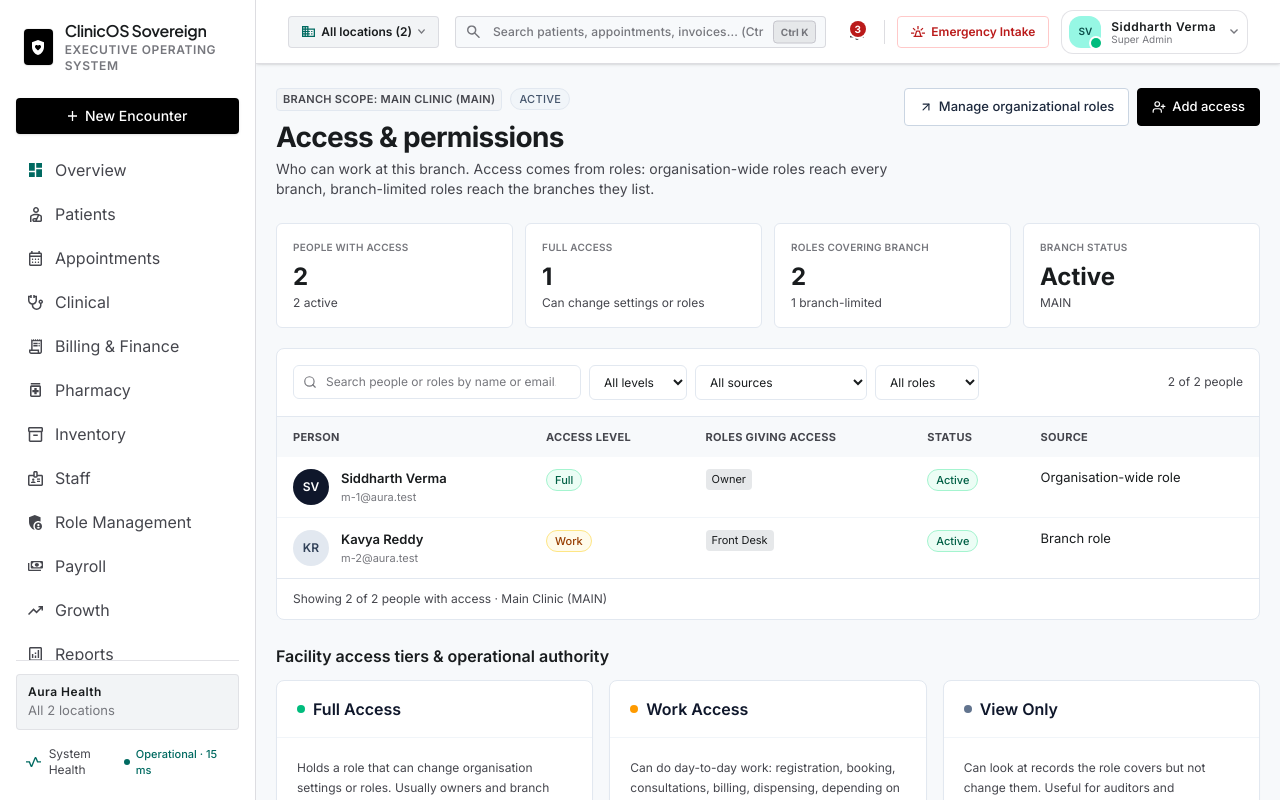
Test: branch access page › gives a person a role that covers the branch
Step 1. Click the button "Add access" → (1199, 107), box [1137,88,1260,126]
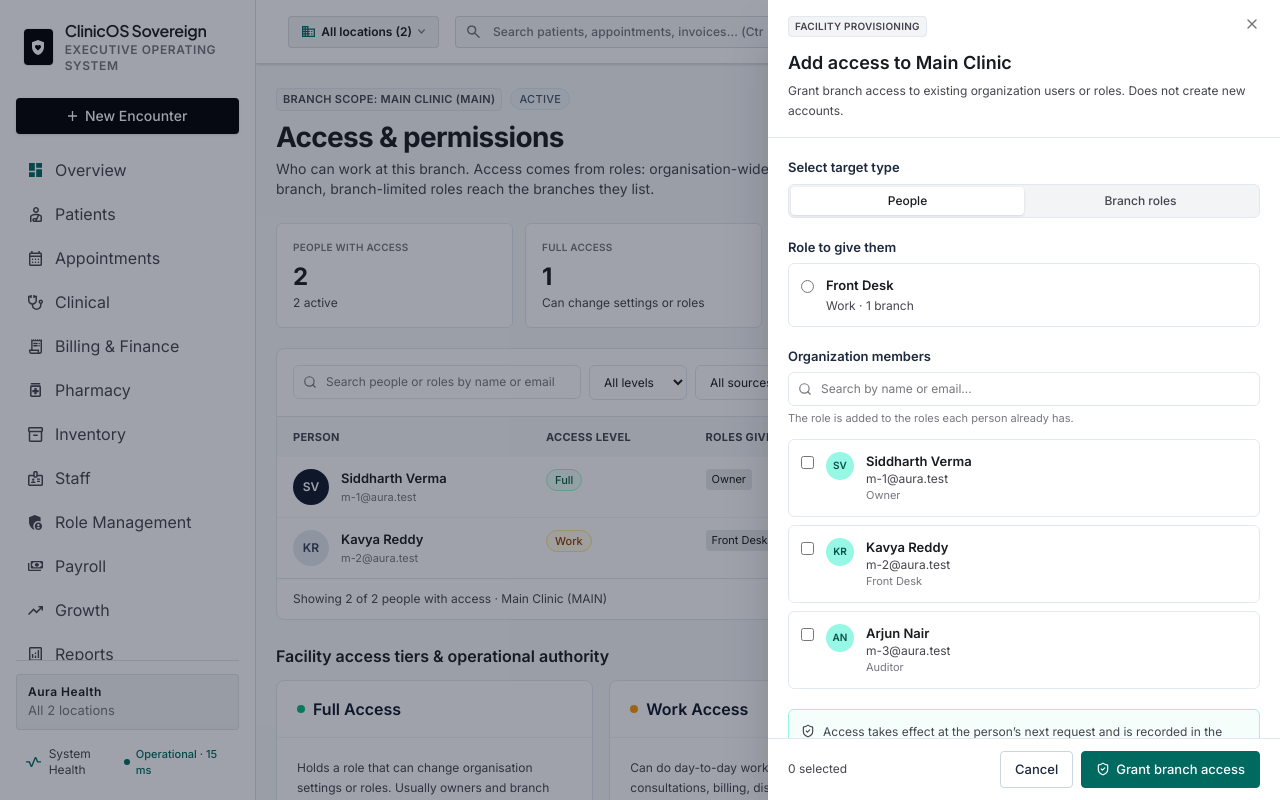
Step 2. Click the button "Grant branch access" → (1171, 769), box [1081,750,1260,788]
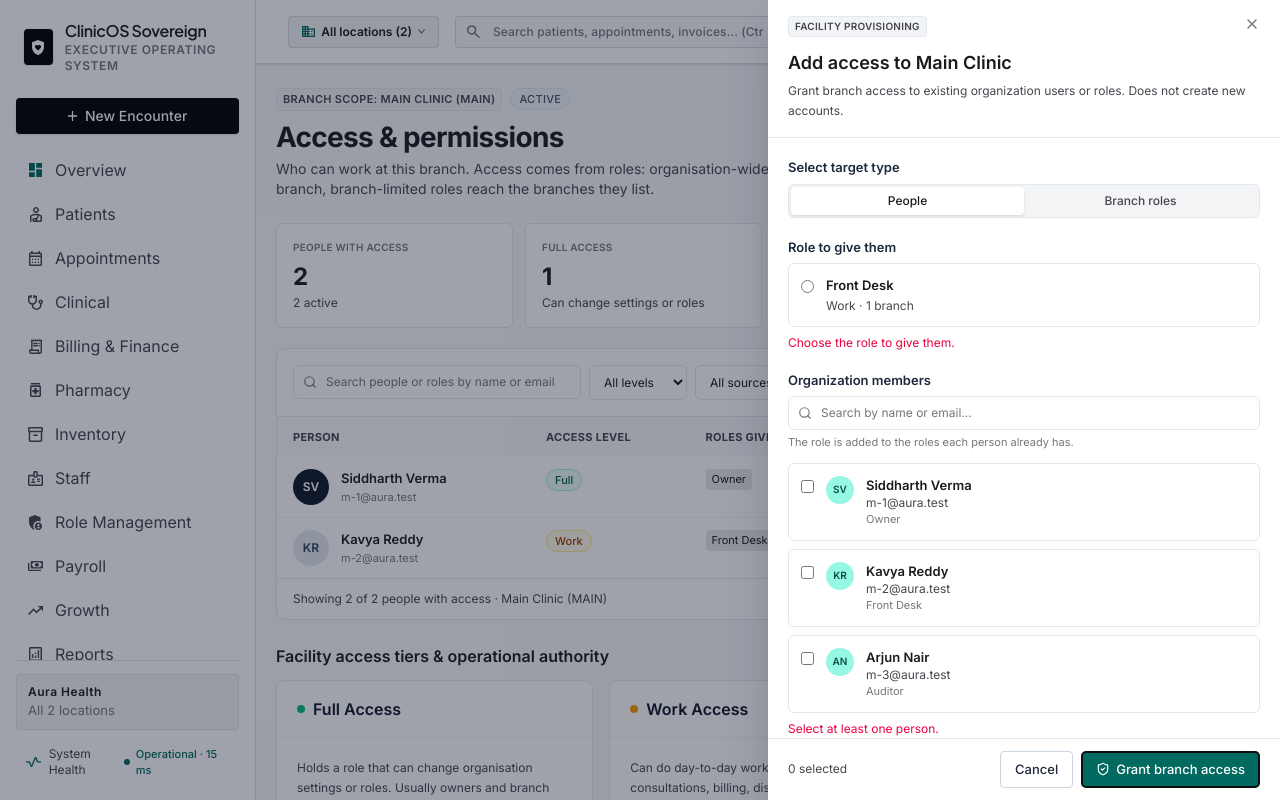
Now the text "Select at least one person." is shown, box [788,720,939,736]
Now the text "Choose the role to give them." is shown, box [788,334,955,350]
Step 3. Click the radio button labelled "Front Desk Work · 1 branch" → (808, 286), box [801,280,814,293]
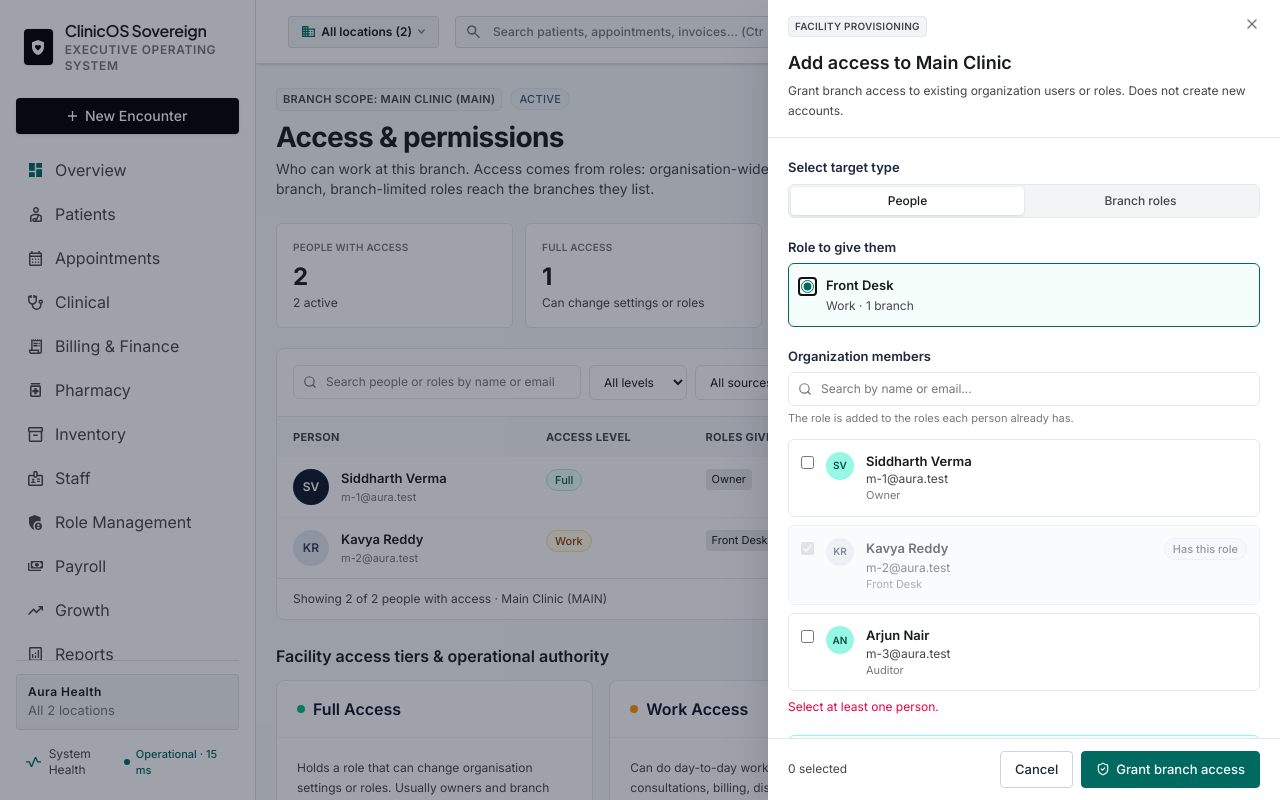
Now the checkbox labelled "Kavya Reddy" is disabled, box [801,542,814,554]
Step 4. Click the checkbox labelled "Arjun Nair" → (808, 636), box [801,630,814,643]
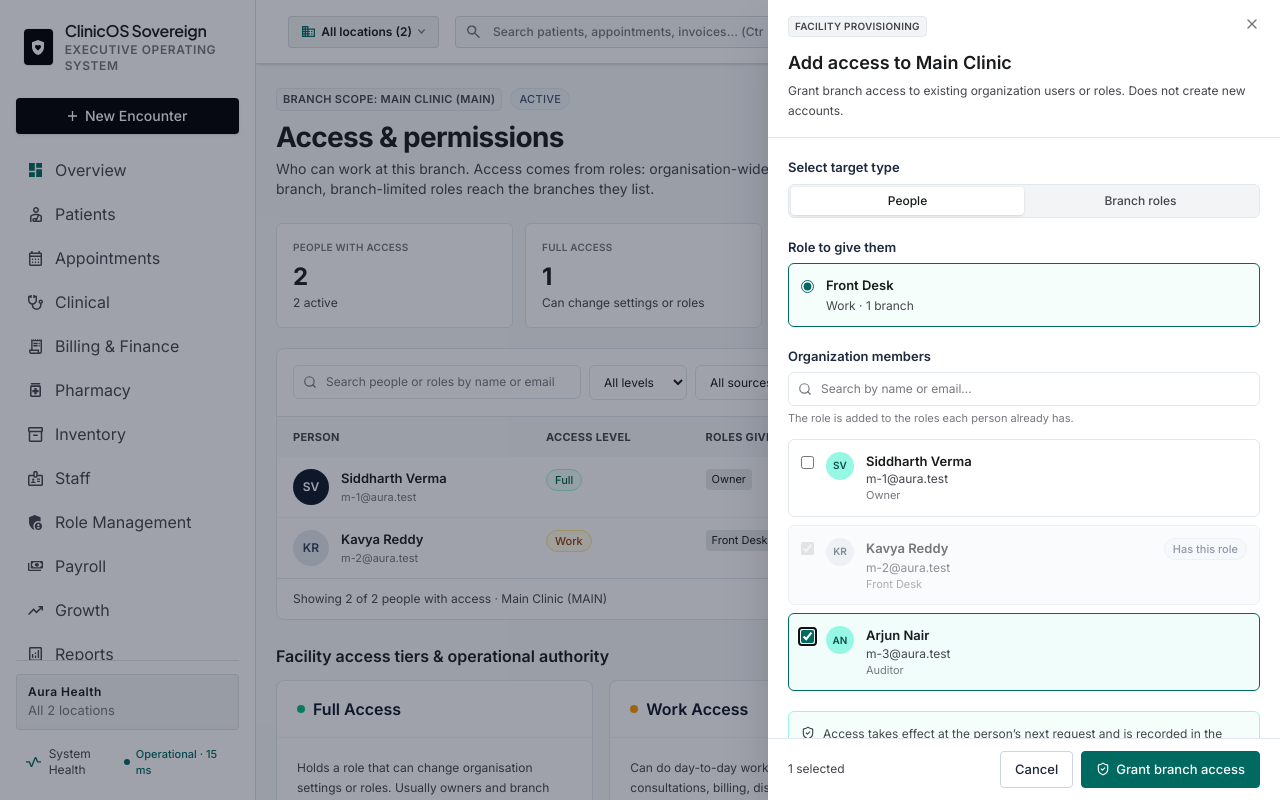
Step 5. Click the button "Grant branch access" → (1171, 769), box [1081,750,1260,788]
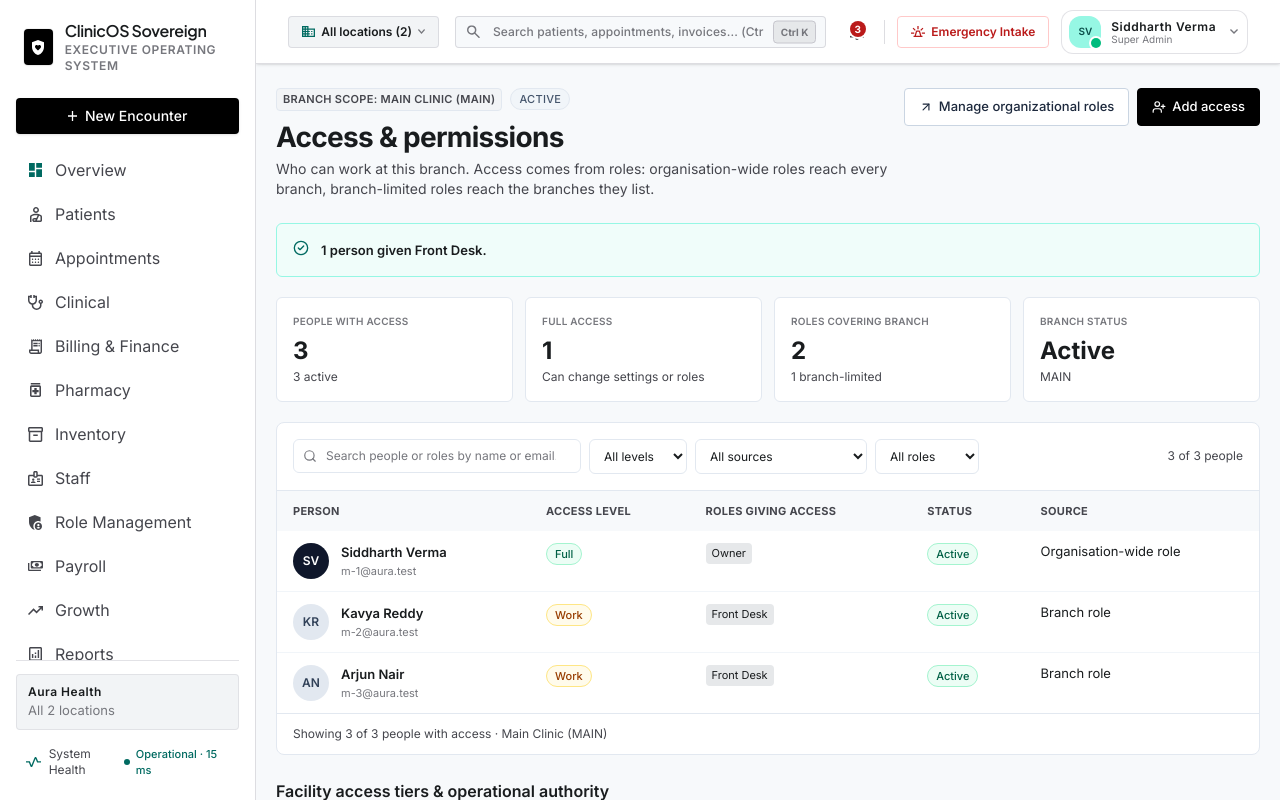
Now the text "1 person given Front Desk." is shown, box [321,242,487,258]
